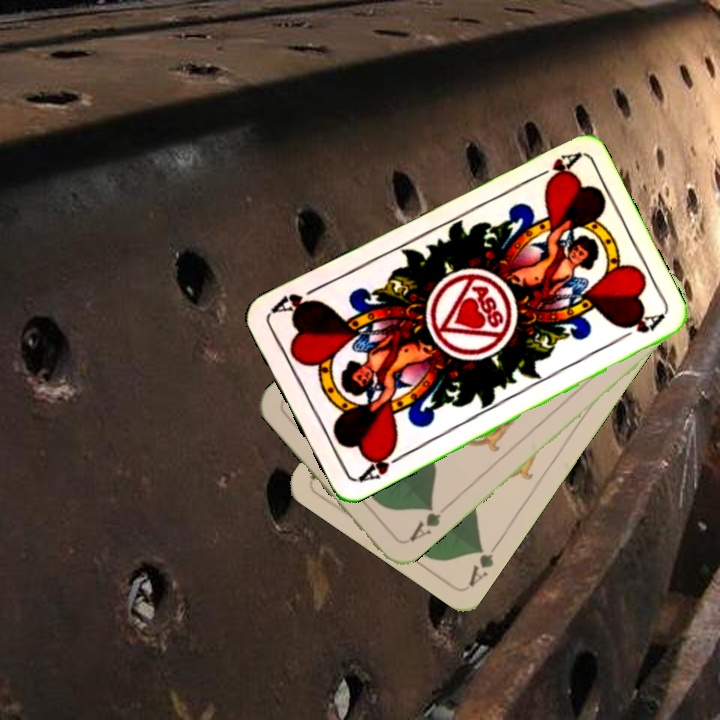GA: (402, 501, 450, 545), (464, 537, 503, 590)
HA: (353, 442, 408, 485), (526, 148, 582, 188)
